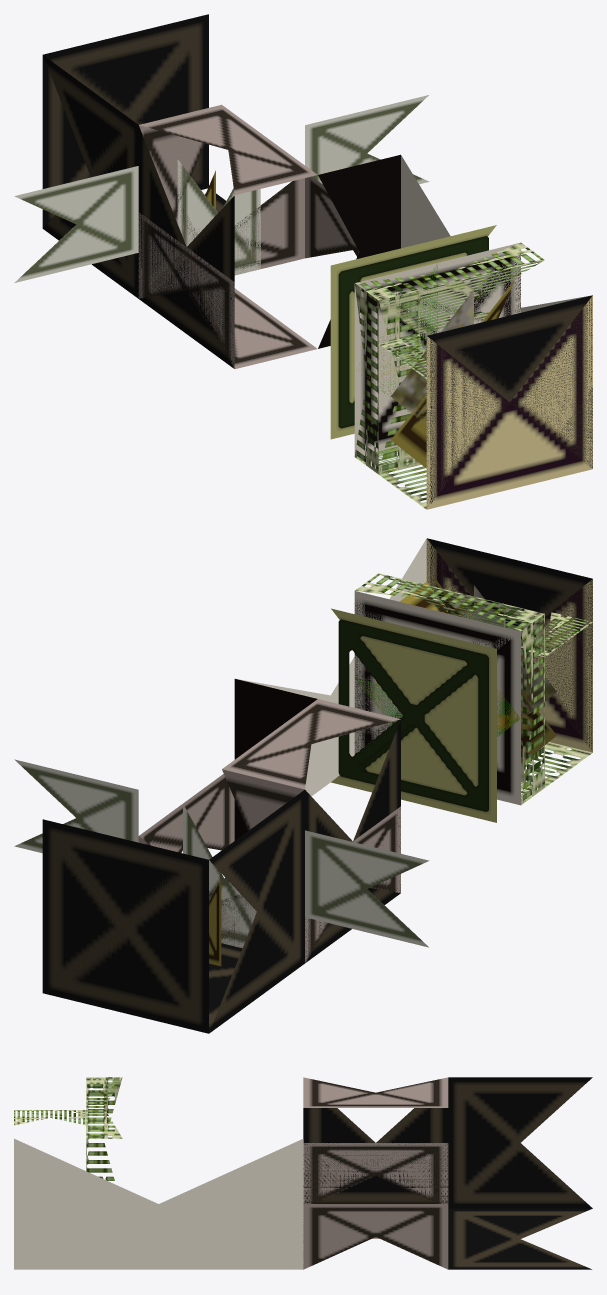
The model's file is town_geometry_type_03.obj.
3 renders of one model, top to bottom at view 1: azimuth 30°, elevation 25°; view 2: azimuth 150°, elevation 25°; view 3: azimuth 270°, elevation 25°, orthographic. The views are drawn at different scales.
Parts seen in each view (by area): view 1: face_list_007, face_list_000, face_list_025, face_list_011, face_list_022, face_list_028, face_list_009, face_list_049, face_list_026, face_list_012, face_list_010, face_list_043 (+12 smaller); view 2: face_list_022, face_list_007, face_list_019, face_list_023, face_list_011, face_list_025, face_list_049, face_list_000, face_list_003, face_list_043, face_list_009, face_list_012 (+13 smaller); view 3: face_list_009, face_list_007, face_list_028, face_list_029, face_list_010, face_list_011, face_list_013.
Boxes of the visible parts, x1=… form: face_list_007: x1=43, y1=55, x2=317, y2=368; face_list_000: x1=426, y1=295, x2=592, y2=509; face_list_025: x1=426, y1=295, x2=592, y2=506; face_list_011: x1=354, y1=242, x2=544, y2=474; face_list_022: x1=42, y1=14, x2=208, y2=228; face_list_028: x1=138, y1=178, x2=304, y2=368; face_list_009: x1=318, y1=154, x2=590, y2=348; face_list_049: x1=14, y1=166, x2=138, y2=282; face_list_026: x1=428, y1=296, x2=592, y2=468; face_list_012: x1=354, y1=243, x2=518, y2=509; face_list_010: x1=139, y1=104, x2=317, y2=194; face_list_043: x1=43, y1=14, x2=208, y2=186; face_list_022: x1=43, y1=819, x2=208, y2=1033; face_list_007: x1=209, y1=720, x2=400, y2=1033; face_list_019: x1=331, y1=608, x2=496, y2=822; face_list_023: x1=42, y1=820, x2=205, y2=1032; face_list_011: x1=354, y1=573, x2=544, y2=805; face_list_025: x1=427, y1=538, x2=592, y2=749; face_list_049: x1=305, y1=830, x2=429, y2=947; face_list_000: x1=426, y1=538, x2=592, y2=752; face_list_003: x1=338, y1=620, x2=488, y2=811; face_list_043: x1=42, y1=819, x2=207, y2=991; face_list_009: x1=234, y1=539, x2=426, y2=840; face_list_012: x1=355, y1=591, x2=592, y2=803; face_list_009: x1=14, y1=1138, x2=303, y2=1269; face_list_007: x1=303, y1=1077, x2=592, y2=1238; face_list_028: x1=303, y1=1143, x2=591, y2=1269; face_list_029: x1=303, y1=1204, x2=448, y2=1269; face_list_010: x1=303, y1=1077, x2=448, y2=1107; face_list_011: x1=86, y1=1077, x2=122, y2=1180; face_list_013: x1=14, y1=1110, x2=86, y2=1125.
Bounding box in the file's own units: 160 × 64 × 256.
26 materials, 26 textured.
